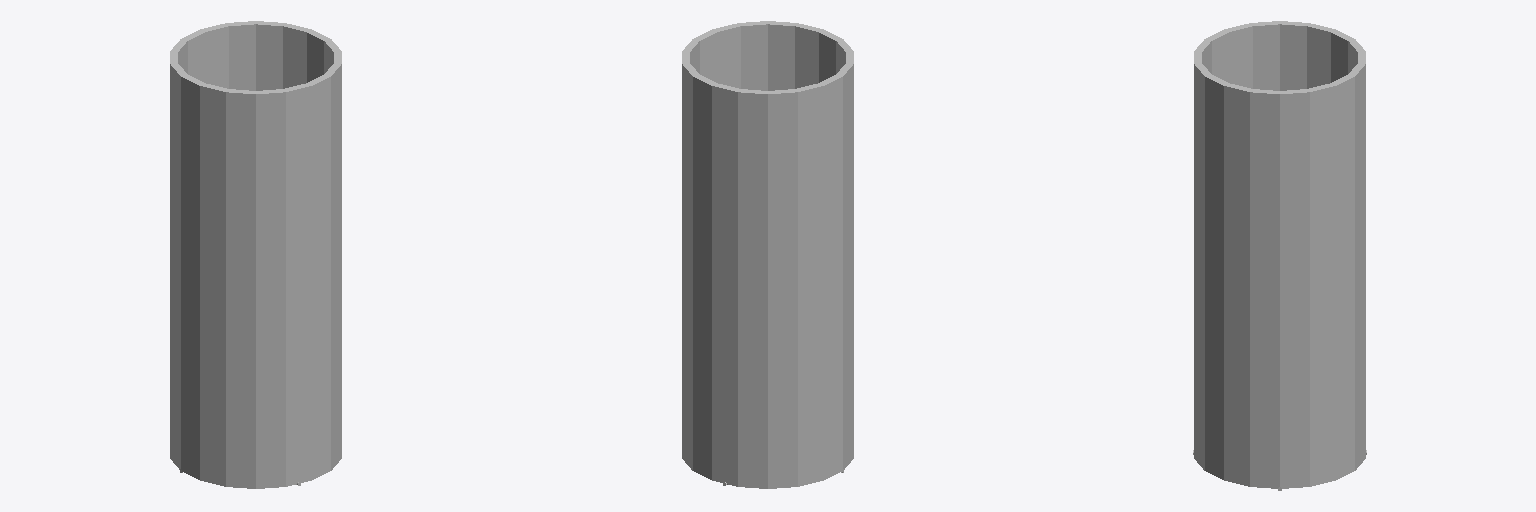
File: pipe.obj
3 renders of one model, left to right at view 1: azimuth 30°, elevation 25°; view 2: azimuth 150°, elevation 25°; view 3: azimuth 270°, elevation 25°, orthographic.
Parts seen in each view (by area): view 1: pipe; view 2: pipe; view 3: pipe.
Boxes of the visible parts, <box> form: pipe: <box>170,21,341,488</box>; pipe: <box>682,21,853,488</box>; pipe: <box>1194,21,1365,488</box>.
Size of the model in its own units: 20 by 50.25 by 20.